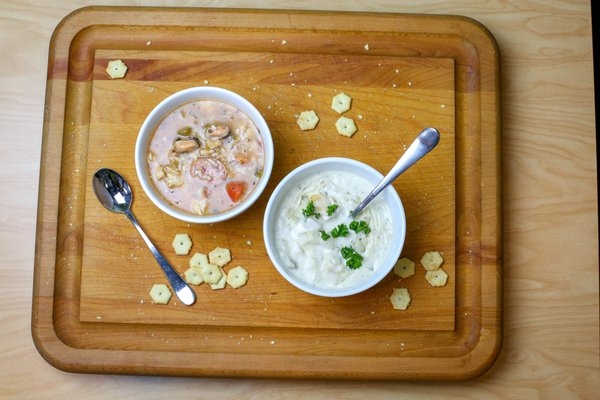salad: (92, 166, 197, 306), (351, 128, 440, 219)
sushi: (263, 157, 406, 297), (135, 85, 274, 224)
